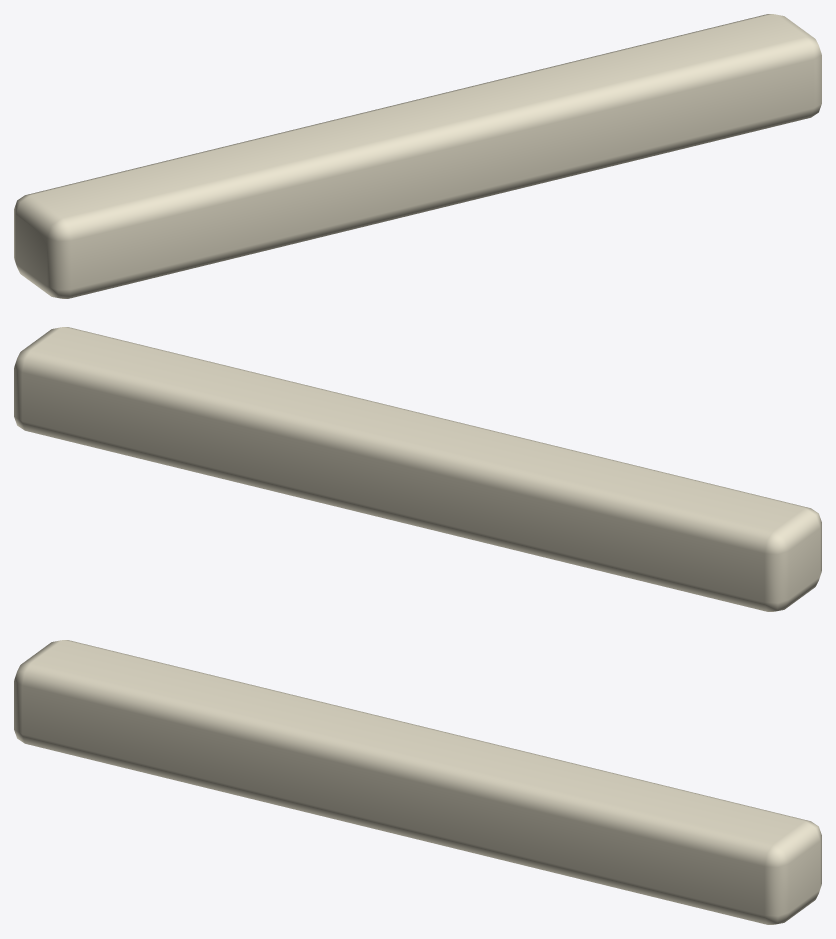
File: curb.glb
3 renders of one model, top to bottom at view 1: azimuth 30°, elevation 25°; view 2: azimuth 150°, elevation 25°; view 3: azimuth 330°, elevation 25°, orthographic.
Visible parts, largest first — view 1: Kerb; view 2: Kerb; view 3: Kerb.
Boxes of the visible parts, x1,y1,x2,y2 form: Kerb: (14,14,821,298); Kerb: (14,327,821,611); Kerb: (14,640,821,924).
Bounding box in the file's own units: 2 × 0.2 × 0.22.
